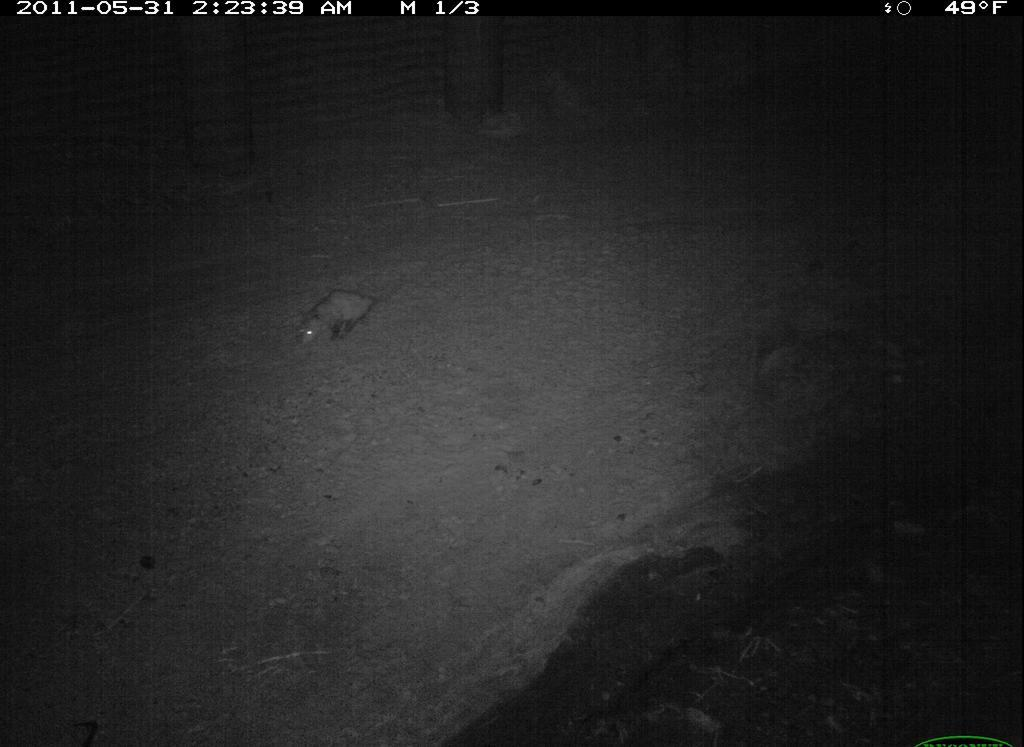opossum: (279, 274, 412, 362)
